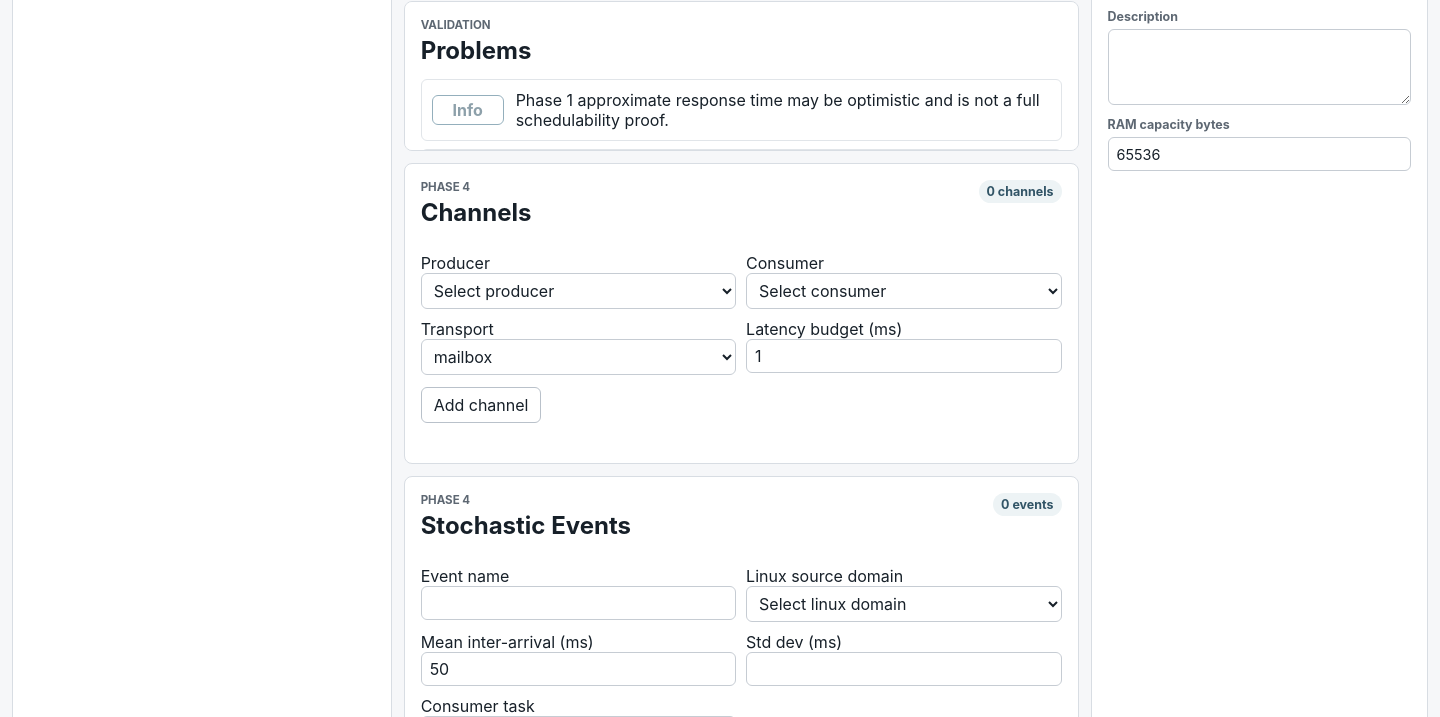
Scenario: ChannelPanel › surfaces validation errors for incomplete channel drafts
The image size is (1440, 717).
(page scrolled)
Click the button "Add channel" at [481, 405], box left=421, top=387, right=541, bottom=423
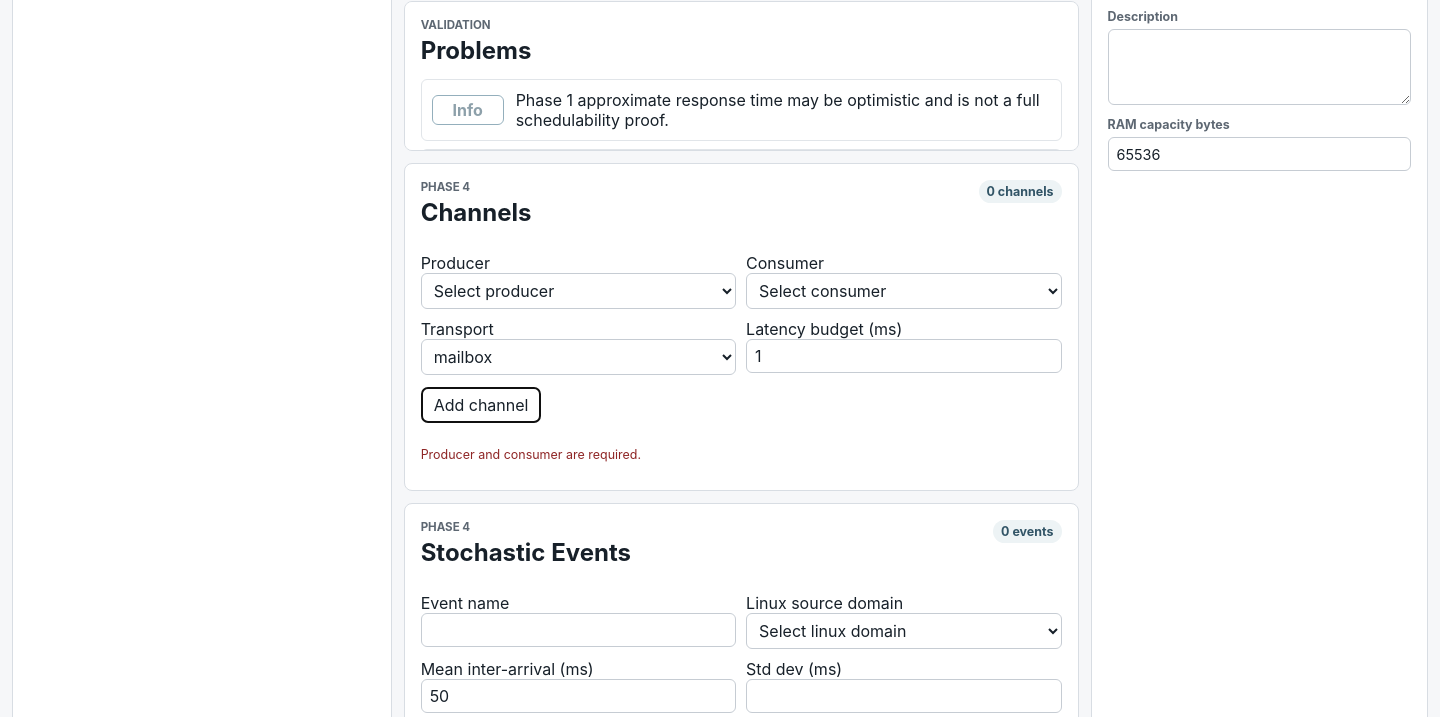
Check: the message reads "Producer and consumer are required.", box left=421, top=447, right=641, bottom=462
